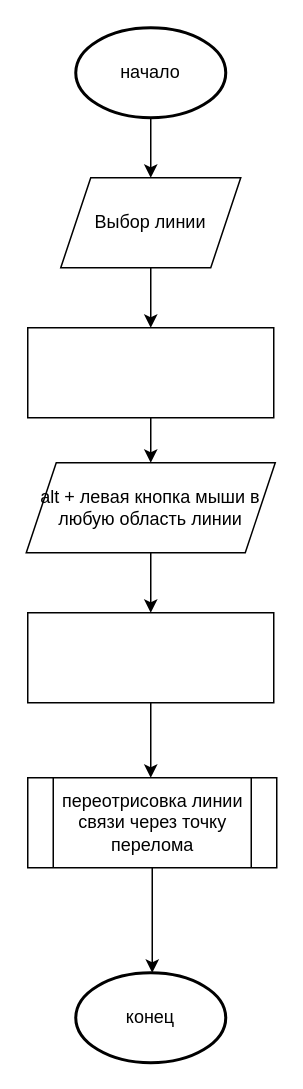
This 303x1089 diagram has some shape labels left out. Here are the shapes that lost their labels. From the top down, the centre of each, then its label:
At point 150,372: "Подсветка линии и точек перелома".
At point 150,657: "Появление новой точки перелома в месте клика".
